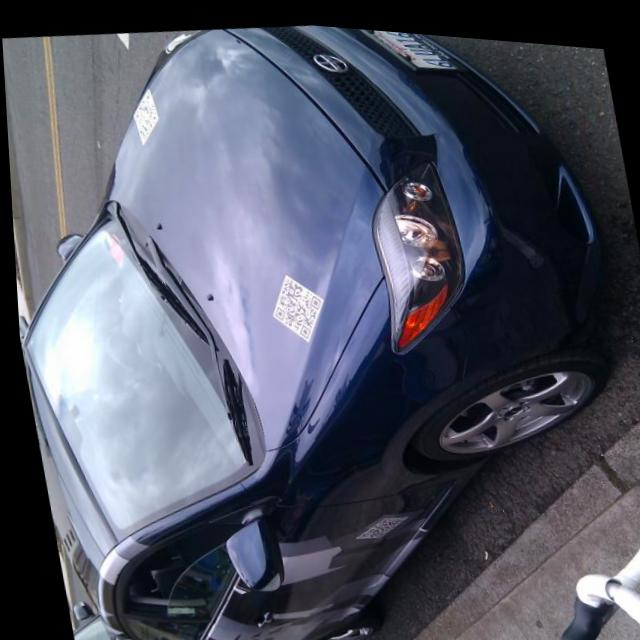qrcode: (266, 268, 325, 338), (129, 86, 160, 139), (349, 507, 404, 535)
